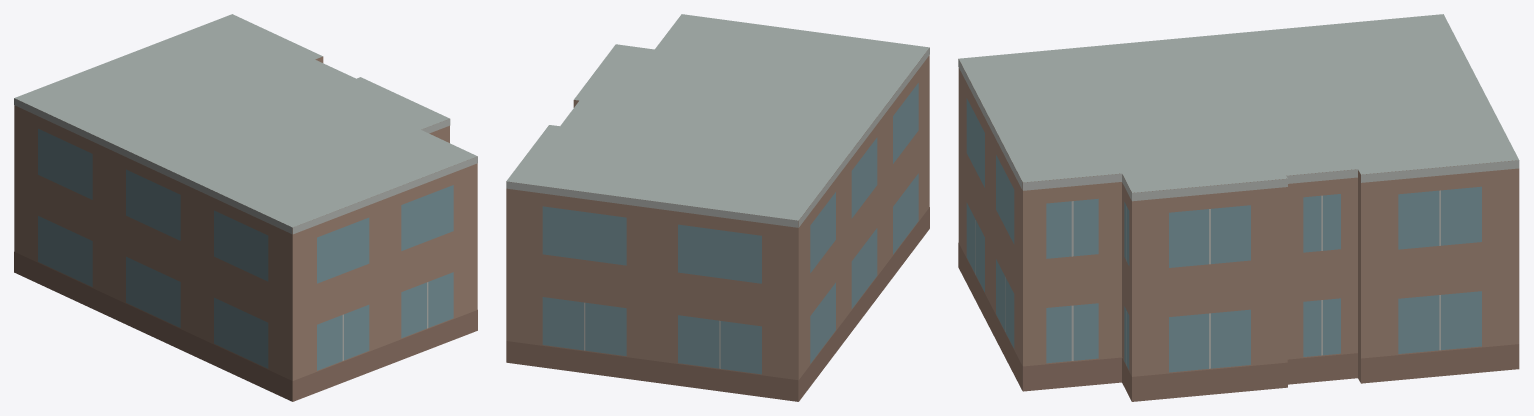
File: survey-upis-32706425.glb
The picture shows the model from 3 angles, left to right: view 1: azimuth 30°, elevation 25°; view 2: azimuth 150°, elevation 25°; view 3: azimuth 270°, elevation 25°; orthographic projection. The views are drawn at different scales.
Visible parts, largest first — view 1: survey-upis-32706425.tmp; view 2: survey-upis-32706425.tmp; view 3: survey-upis-32706425.tmp.
Part boxes in pixels (x1,y1,x2,y2): survey-upis-32706425.tmp: (14, 14, 477, 401); survey-upis-32706425.tmp: (506, 14, 929, 401); survey-upis-32706425.tmp: (958, 14, 1519, 401).
Bounding box in the file's own units: 11.21 × 6.1 × 14.85.
